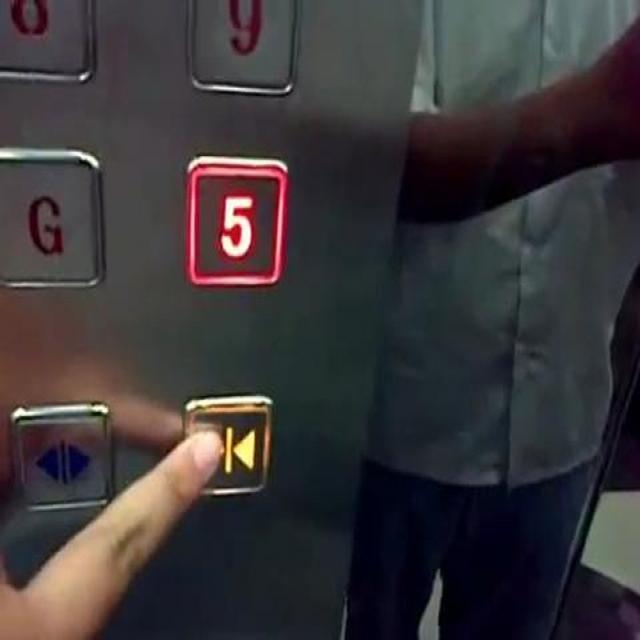5: (181, 151, 290, 292)
9: (183, 0, 301, 99)
G: (0, 141, 107, 292)
close: (180, 388, 274, 499)
open: (2, 396, 113, 516)
